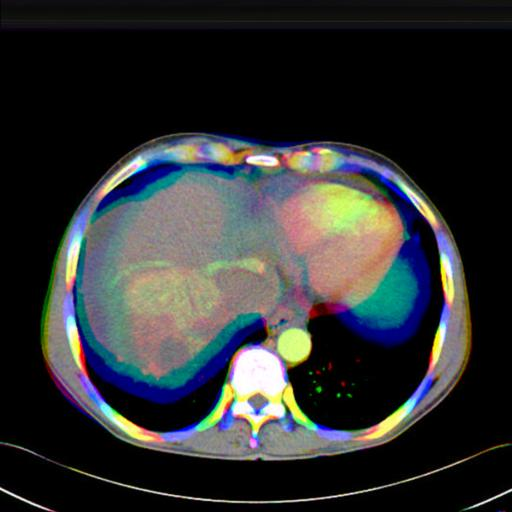Tumor: (189, 262, 273, 333), (147, 330, 191, 377)
